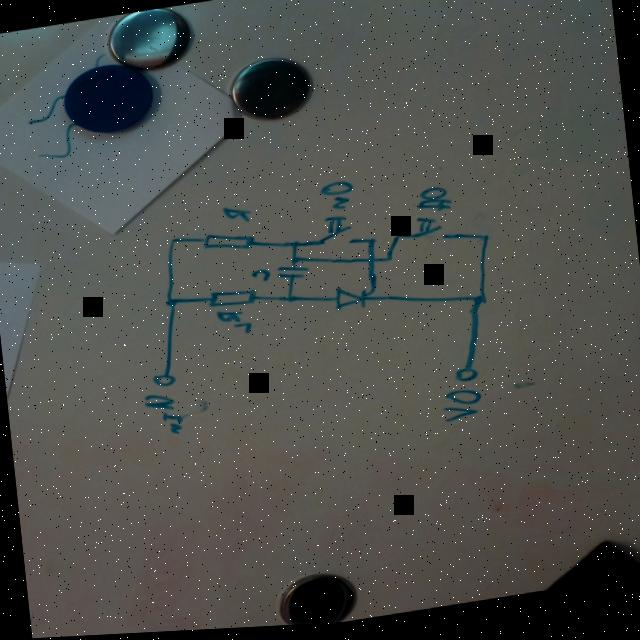capacitor: (275, 263, 308, 284)
crossover: (364, 257, 377, 269)
junction: (470, 295, 488, 310), (164, 297, 178, 308), (477, 236, 490, 246), (284, 295, 296, 304), (289, 256, 299, 266), (288, 241, 299, 250), (166, 236, 176, 245), (392, 234, 401, 243), (365, 240, 376, 247), (382, 258, 392, 265)
resistor: (198, 228, 254, 256), (205, 287, 257, 312)
switch: (315, 216, 352, 250), (410, 217, 444, 247)
terminal: (452, 369, 478, 388), (150, 372, 174, 389)
text: (142, 390, 182, 439), (441, 389, 482, 426), (316, 181, 354, 215), (214, 306, 251, 339), (414, 187, 450, 217), (220, 204, 250, 227), (249, 268, 269, 284)
thyristor: (332, 284, 378, 314)
